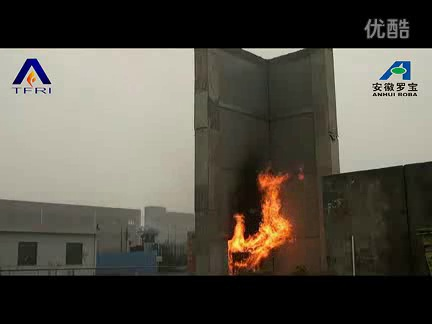fire: (218, 165, 304, 273)
